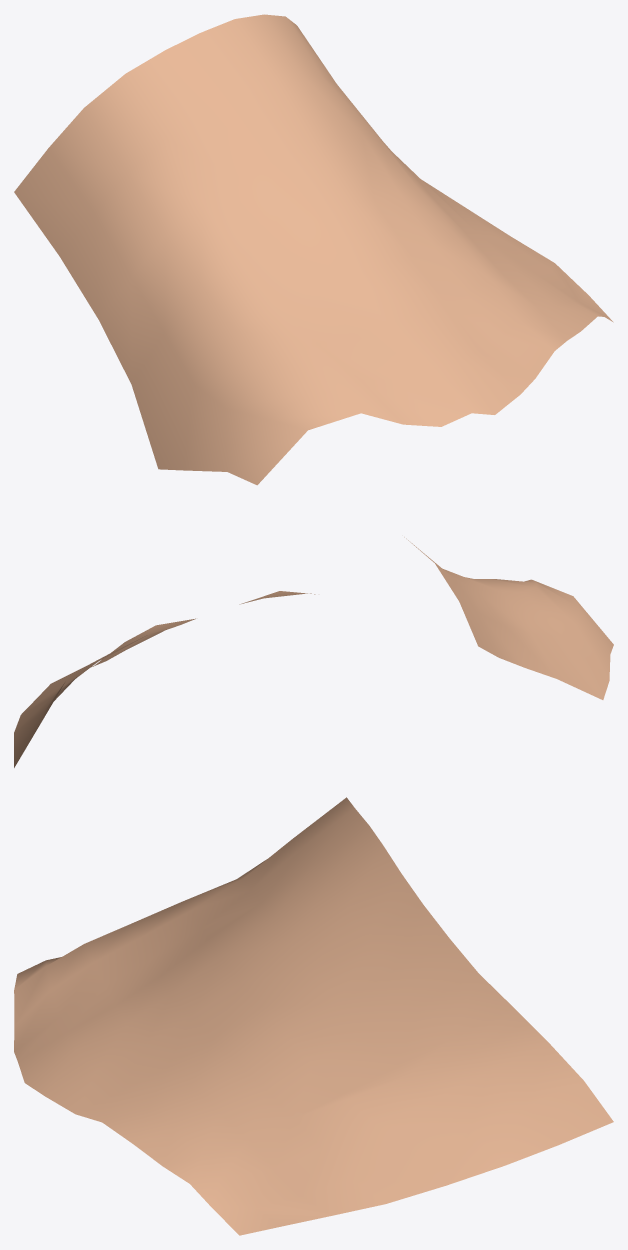
Rendered from metatarsal-region-l.glb.
3 views of the same model, one above another, from view 1: azimuth 30°, elevation 25°; view 2: azimuth 150°, elevation 25°; view 3: azimuth 270°, elevation 25° (orthographic). The views are drawn at different scales.
Visible parts, largest first — view 1: Metatarsal region.l; view 2: Metatarsal region.l; view 3: Metatarsal region.l.
Boxes of the visible parts, x1,y1,x2,y2 form: Metatarsal region.l: (14, 14, 613, 485); Metatarsal region.l: (14, 537, 613, 767); Metatarsal region.l: (14, 797, 613, 1235).
Bounding box in the file's own units: 0.0863 × 0.0493 × 0.0995.
